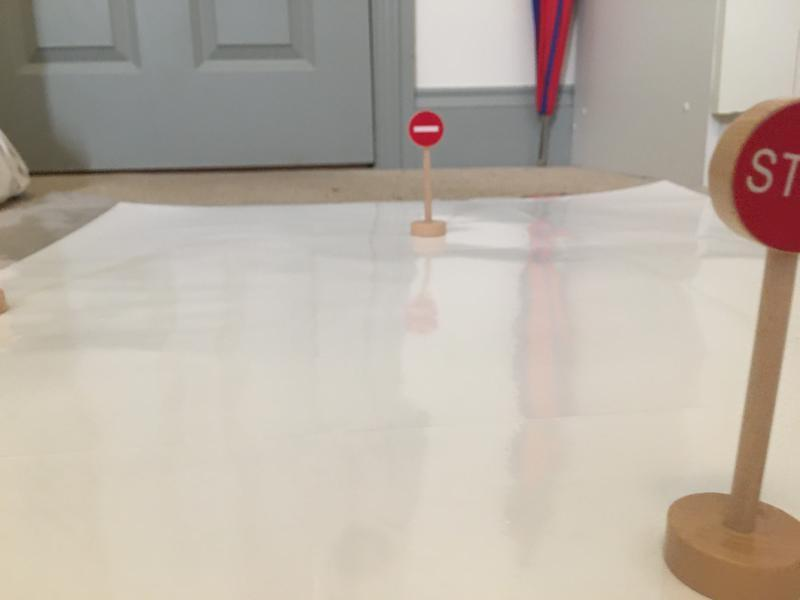Traffic_Sign_No_Entry: (409, 109, 445, 147)
